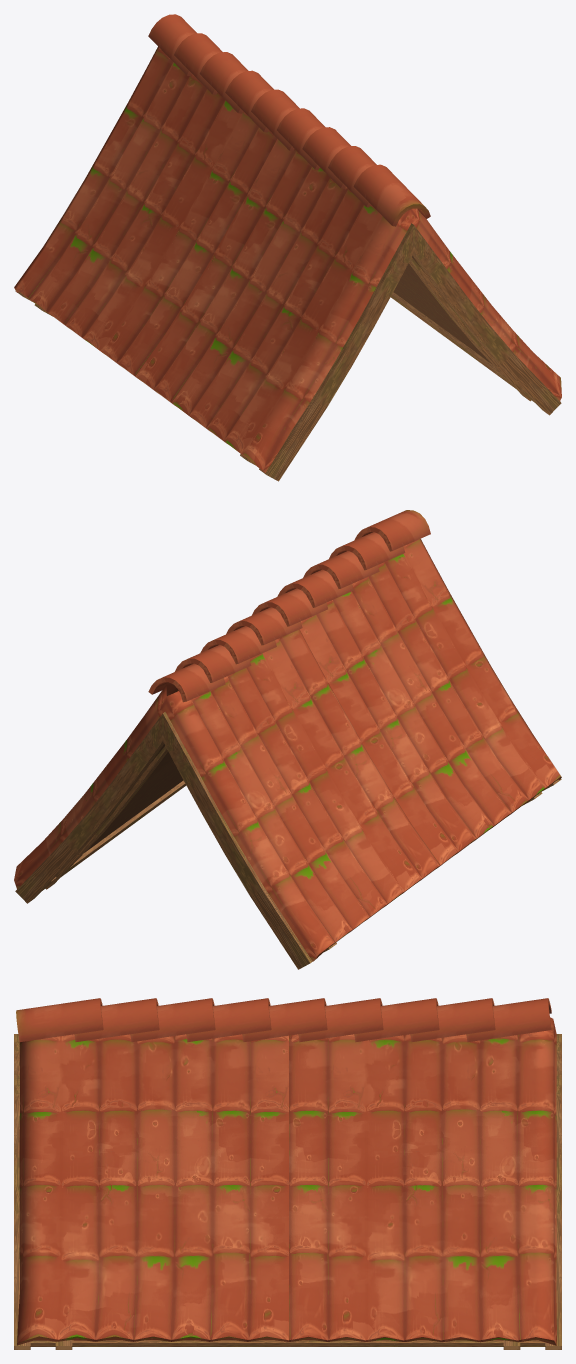
The model's file is Roof_RoundTiles_4x6.gltf.
The picture shows the model from 3 angles, top to bottom: view 1: azimuth 30°, elevation 25°; view 2: azimuth 150°, elevation 25°; view 3: azimuth 270°, elevation 25°; orthographic projection. The views are drawn at different scales.
Parts seen in each view (by area): view 1: Roof_RoundTiles_4x6; view 2: Roof_RoundTiles_4x6; view 3: Roof_RoundTiles_4x6.
Part boxes in pixels (bbox=[...]): Roof_RoundTiles_4x6: bbox=[14, 14, 561, 481]; Roof_RoundTiles_4x6: bbox=[14, 510, 561, 969]; Roof_RoundTiles_4x6: bbox=[14, 998, 561, 1349].
Bounding box in the file's own units: 5.51 × 4.23 × 7.57.
2 materials, 2 textured.
